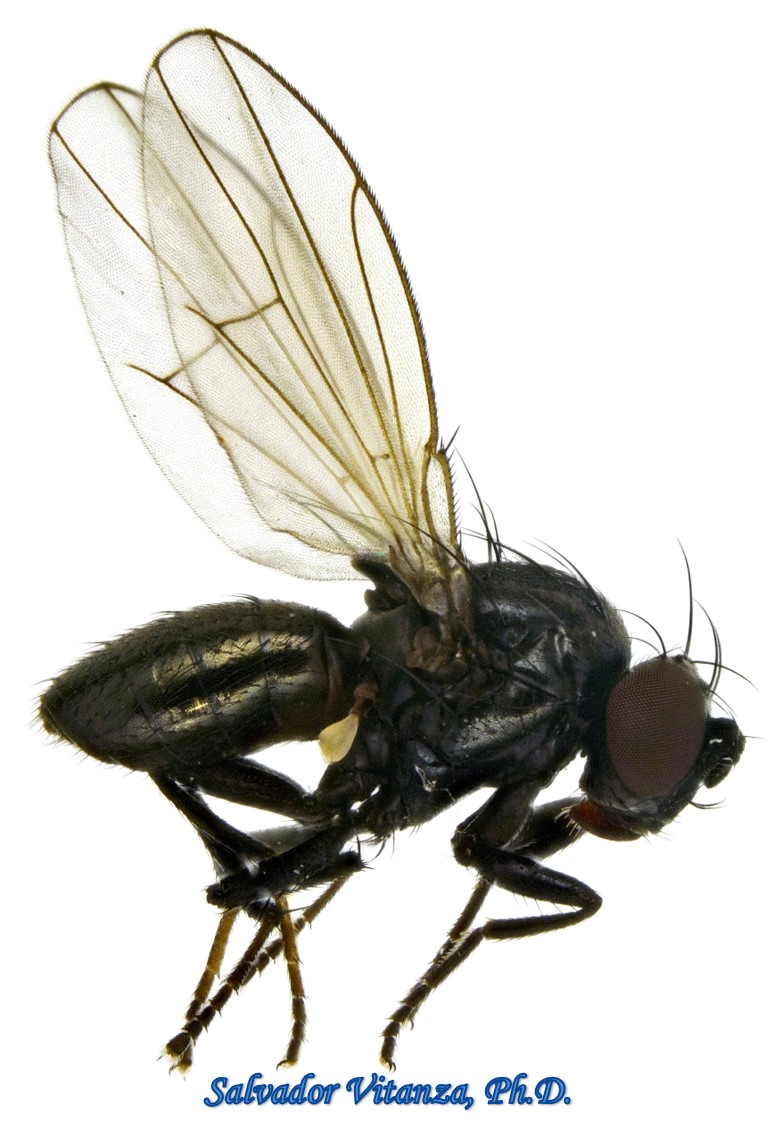Ephydridae: (38, 21, 745, 1073)
